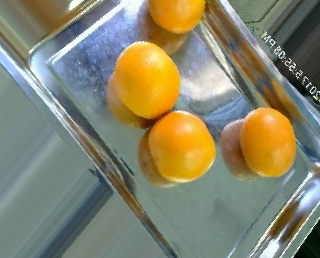Orange: (112, 41, 181, 119), (146, 110, 215, 182), (240, 106, 298, 178)
